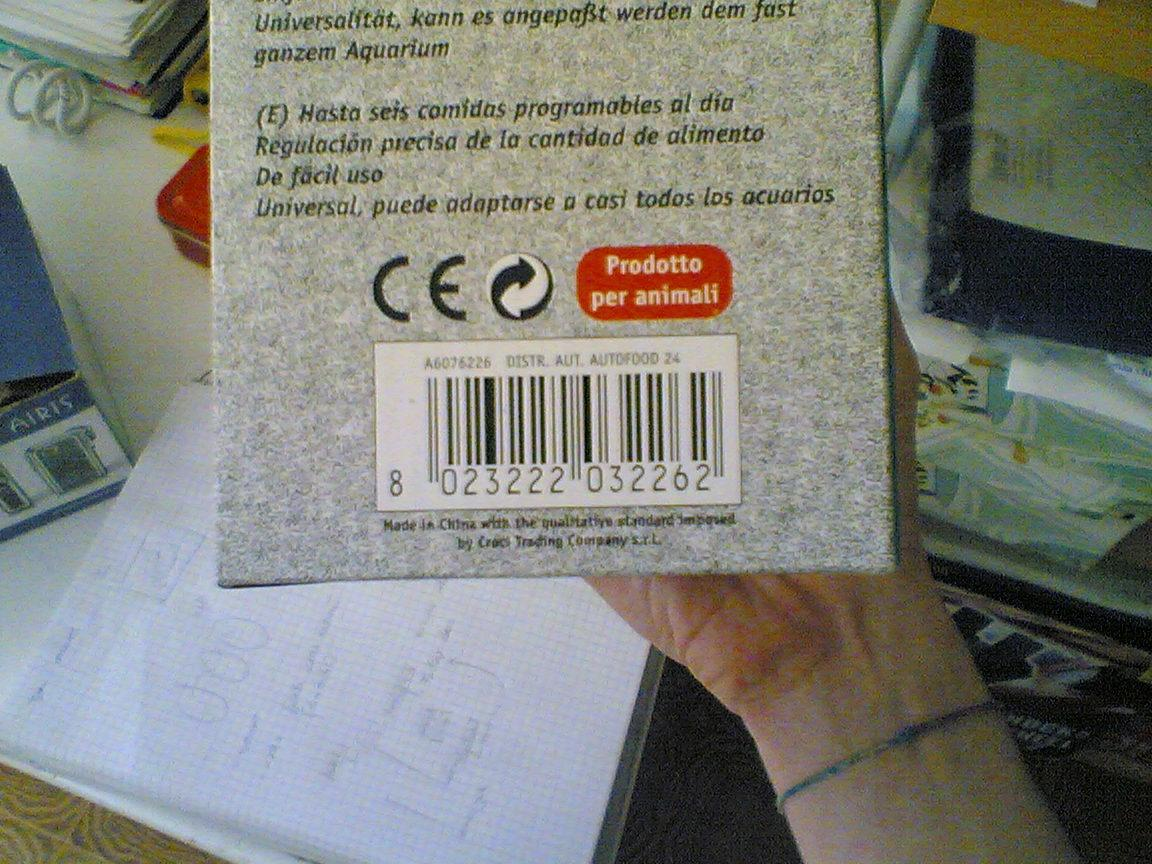Barcode: (372, 334, 741, 506)
